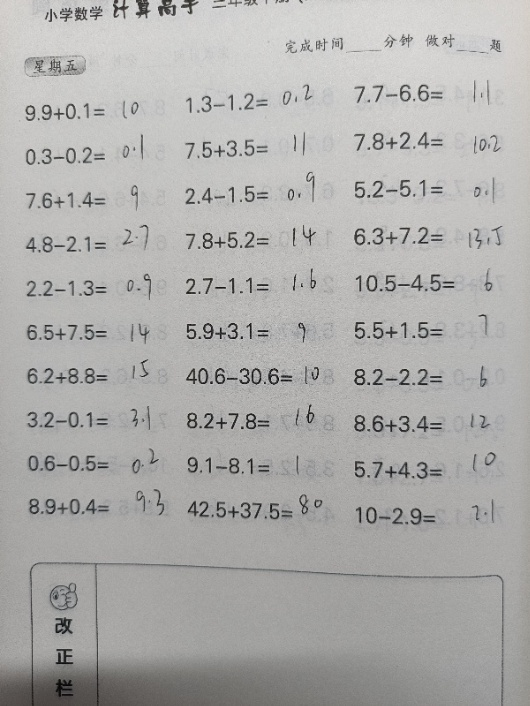equation: (180, 490, 339, 528), (178, 361, 337, 394), (346, 172, 505, 204), (346, 124, 505, 156), (346, 77, 505, 109), (347, 499, 506, 530), (346, 454, 505, 485), (179, 450, 338, 481), (346, 408, 505, 439), (346, 362, 505, 393), (347, 315, 506, 346), (349, 267, 508, 298), (345, 220, 504, 251), (178, 133, 337, 164), (21, 492, 180, 522), (20, 448, 179, 478), (179, 406, 338, 436), (19, 361, 178, 391), (179, 316, 338, 346), (19, 274, 178, 304), (179, 271, 338, 301), (19, 229, 178, 259), (178, 225, 337, 255), (178, 179, 337, 209), (18, 140, 177, 170), (17, 96, 176, 126), (178, 87, 337, 117), (20, 405, 179, 434), (19, 318, 178, 347), (19, 185, 178, 214)
